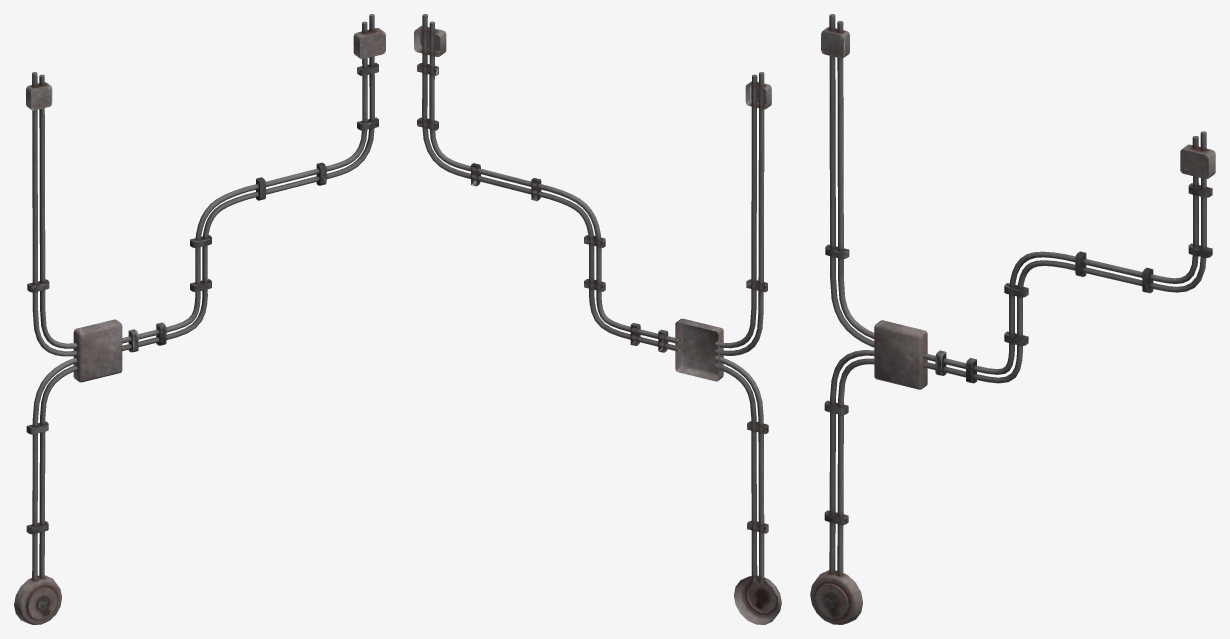
The model's file is Cables01_11.glb.
3 renders of one model, left to right at view 1: azimuth 30°, elevation 25°; view 2: azimuth 150°, elevation 25°; view 3: azimuth 330°, elevation 25°, orthographic. The views are drawn at different scales.
Parts seen in each view (by area): view 1: Plane; view 2: Plane; view 3: Plane.
Boxes of the visible parts, x1,y1,x2,y2 form: Plane: (14, 14, 385, 624); Plane: (414, 14, 781, 624); Plane: (810, 14, 1215, 624).
Bounding box in the file's own units: 0.6607 × 0.9533 × 0.0238.
Materials: 1 (1 with a texture image).
